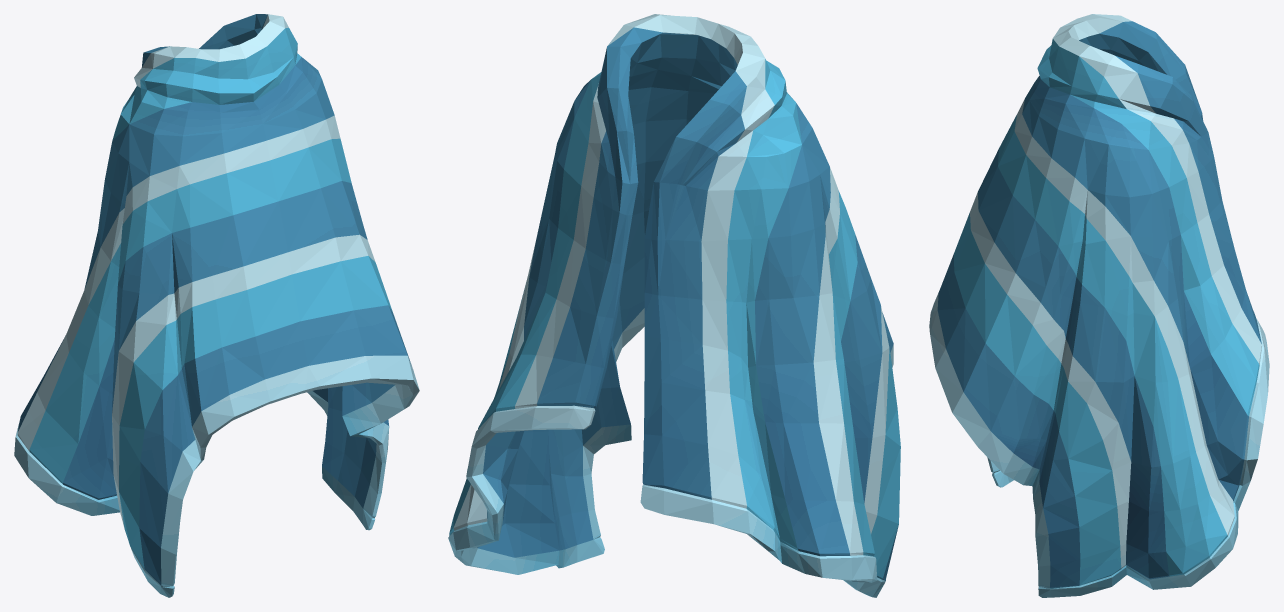
File: CharSkyKid_Wing_SunlightTowelBlue.glb
3 views of the same model, side by side, from view 1: azimuth 30°, elevation 25°; view 2: azimuth 150°, elevation 25°; view 3: azimuth 270°, elevation 25° (orthographic). The views are drawn at different scales.
Parts seen in each view (by area): view 1: CharSkyKid_Wing_SunlightTowelBlue; view 2: CharSkyKid_Wing_SunlightTowelBlue; view 3: CharSkyKid_Wing_SunlightTowelBlue.
Boxes of the visible parts, left/top/right/bottom form: CharSkyKid_Wing_SunlightTowelBlue: left=14, top=14, right=419, bottom=597; CharSkyKid_Wing_SunlightTowelBlue: left=448, top=14, right=900, bottom=597; CharSkyKid_Wing_SunlightTowelBlue: left=929, top=14, right=1269, bottom=597.
Size of the model in its own units: 6.15 by 8.79 by 5.27.
1 material, 1 textured.
